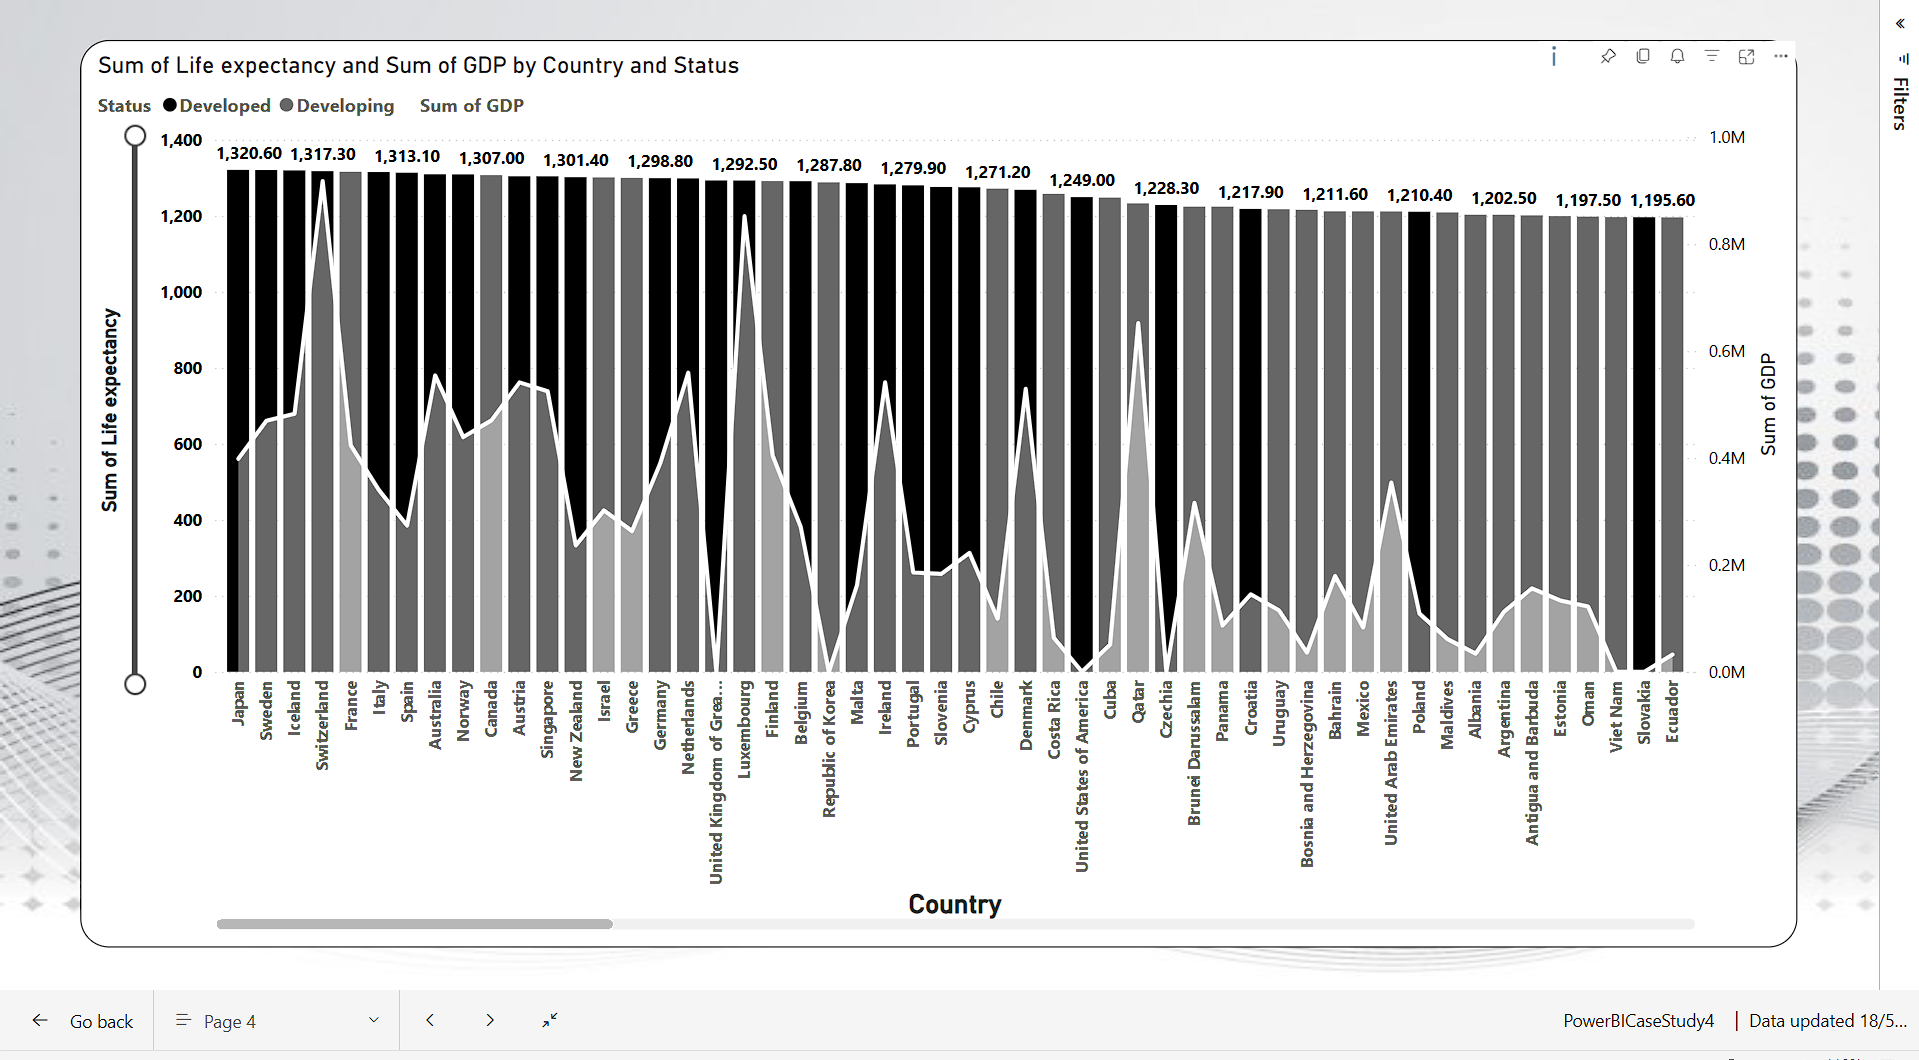

The dashboard page shown, as its layout file describes it:
{"tool":"powerbi","page":{"name":"Page 4","canvas":[1280,720],"ordinal":3},"visuals":[{"type":"lineStackedColumnComboChart","fields":{"Category":["Life Expectancy Data.Country"],"Y":["Sum(Life Expectancy Data.Life expectancy )"],"Y2":["Sum(Life Expectancy Data.GDP)"],"Series":["Life Expectancy Data.Status"]},"box":[15.1,28.8,1248.7,660],"z":0}]}

Visuals, with their boxes on the page's 1280x720 design canvas (x1, y1, x2, y2). These are canvas units, not pixel positions in the 1919x1060 screenshot, which may show the page scaled, cropped or inside an application window:
lineStackedColumnComboChart - Life Expectancy Data.Country x Sum(Life Expectancy Data.Life expectancy ): <bbox>15, 29, 1264, 689</bbox>
